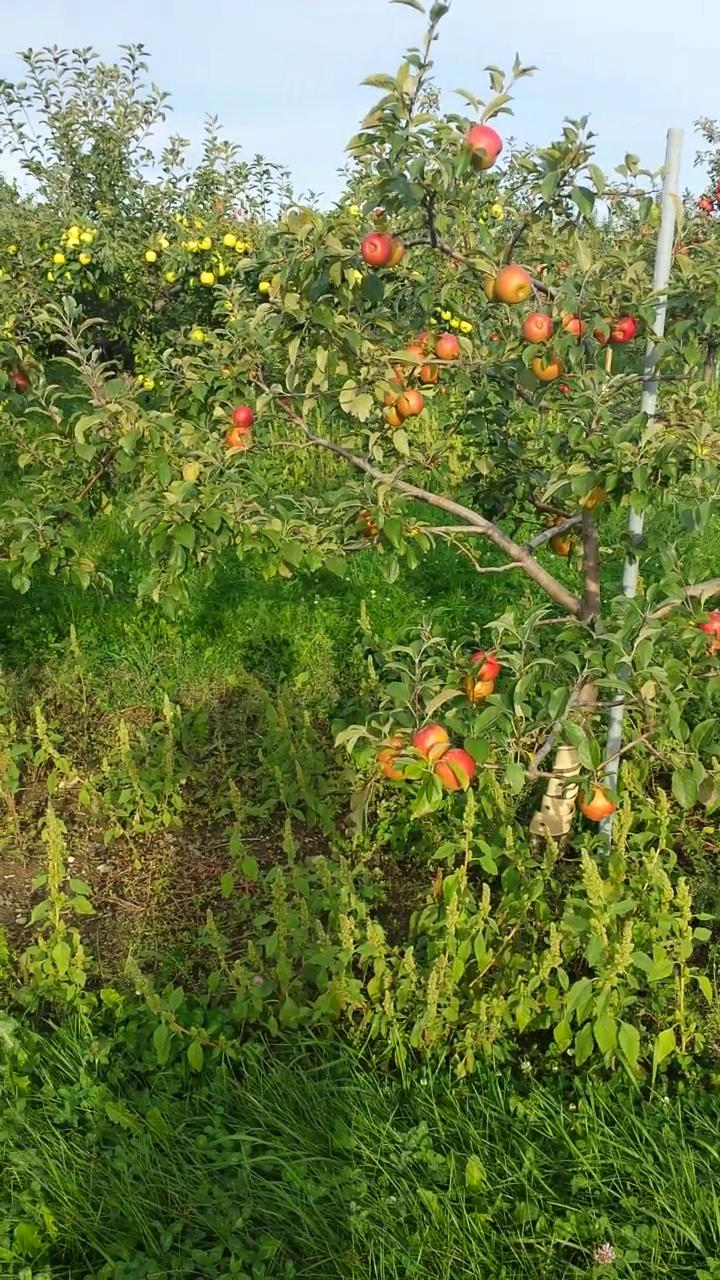Apple: (430, 745, 476, 792), (464, 122, 503, 170), (410, 721, 452, 764), (495, 260, 535, 305), (576, 787, 619, 823), (359, 231, 394, 268), (376, 737, 406, 780), (521, 309, 555, 344), (458, 671, 495, 703), (468, 649, 502, 682), (696, 609, 719, 650), (609, 315, 639, 345), (398, 387, 425, 419), (406, 329, 433, 358), (432, 333, 461, 360), (530, 355, 561, 380), (223, 425, 253, 450), (382, 237, 404, 267), (356, 508, 379, 535), (593, 316, 614, 345), (416, 359, 440, 384), (228, 403, 254, 426), (7, 368, 29, 392), (549, 532, 570, 556), (482, 275, 498, 305), (387, 365, 409, 386), (565, 317, 588, 337), (557, 308, 575, 331), (379, 388, 400, 407), (383, 407, 405, 425)
